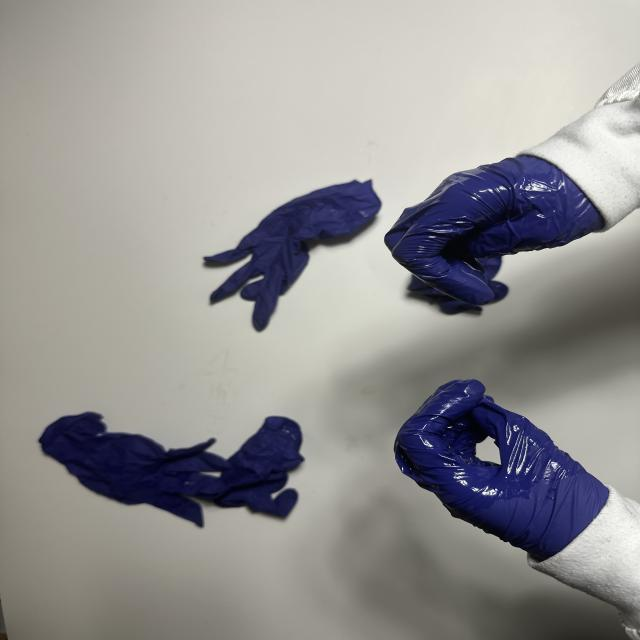gloves_contaminated: (396, 381, 608, 559), (385, 156, 604, 304)
